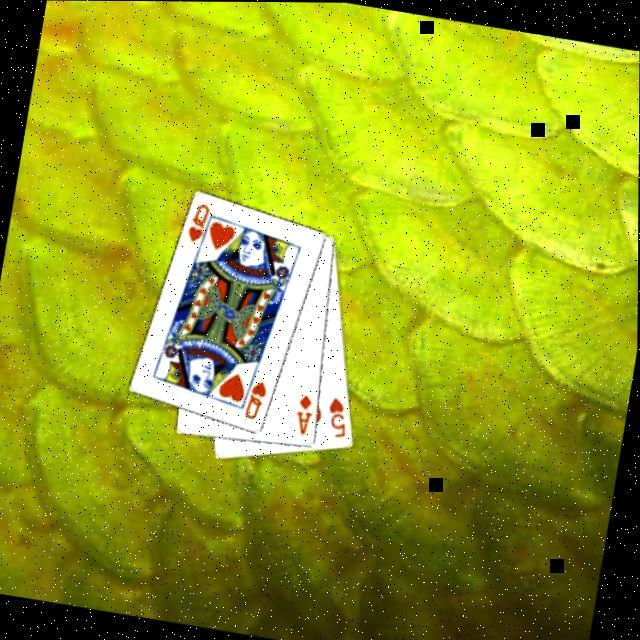5H: (321, 392, 354, 441)
AD: (290, 390, 317, 437)
QH: (182, 198, 217, 252), (241, 375, 270, 423)
